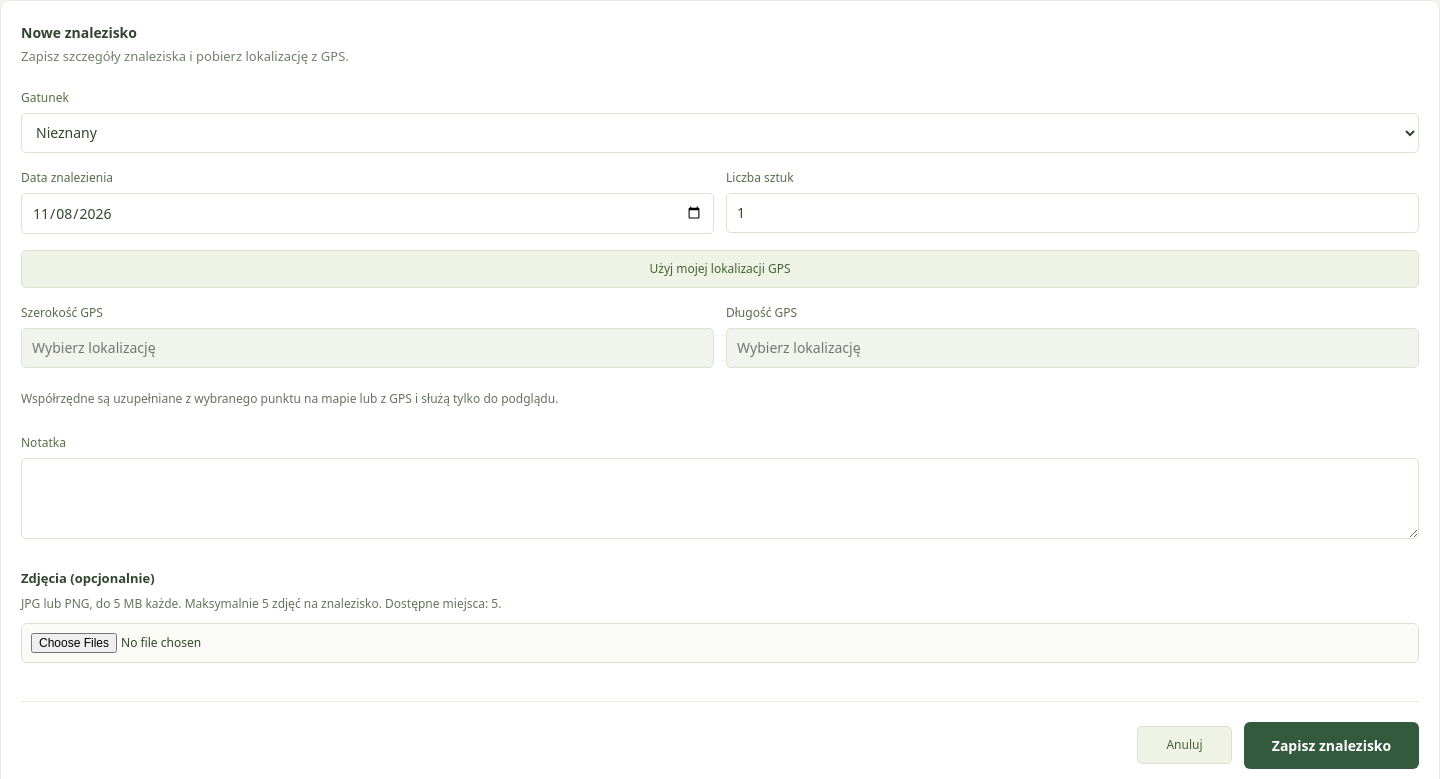
wyjaśnia odmowę lokalizacji i kieruje do mapy, a współrzędne są tylko do odczytu
The width and height of the screenshot is (1440, 779).
What coordinates should you click on to do the following:
click the button "Użyj mojej lokalizacji GPS"
I would click on:
 (720, 269)
Its box is [21, 250, 1419, 288].
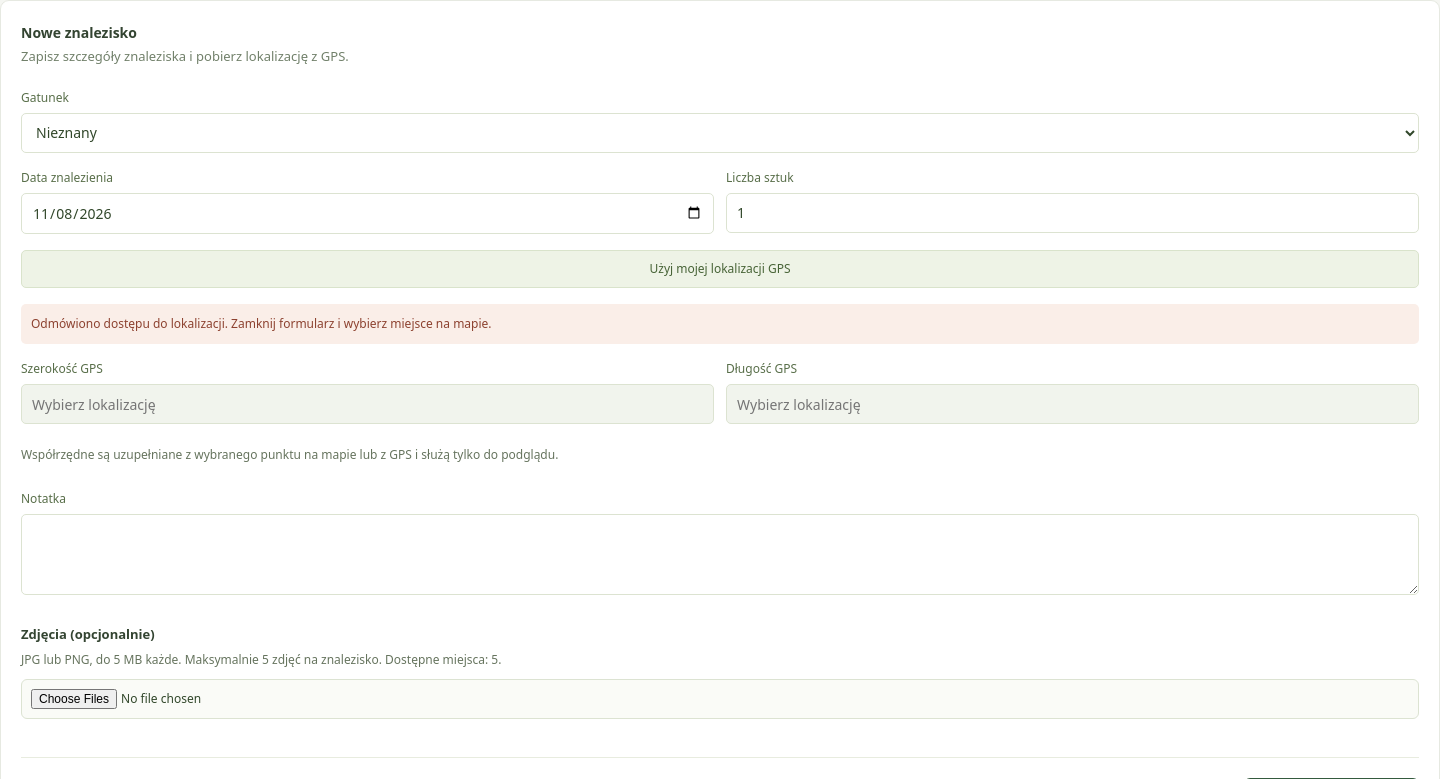
Result: the message shows "Odmówiono dostępu" at [31, 315, 492, 332]
Result: the message shows "wybierz miejsce na mapie" at [31, 315, 492, 332]
